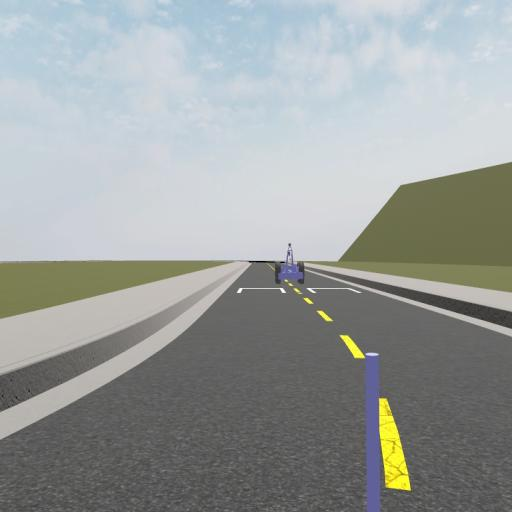ERP-42: (274, 244, 304, 284)
